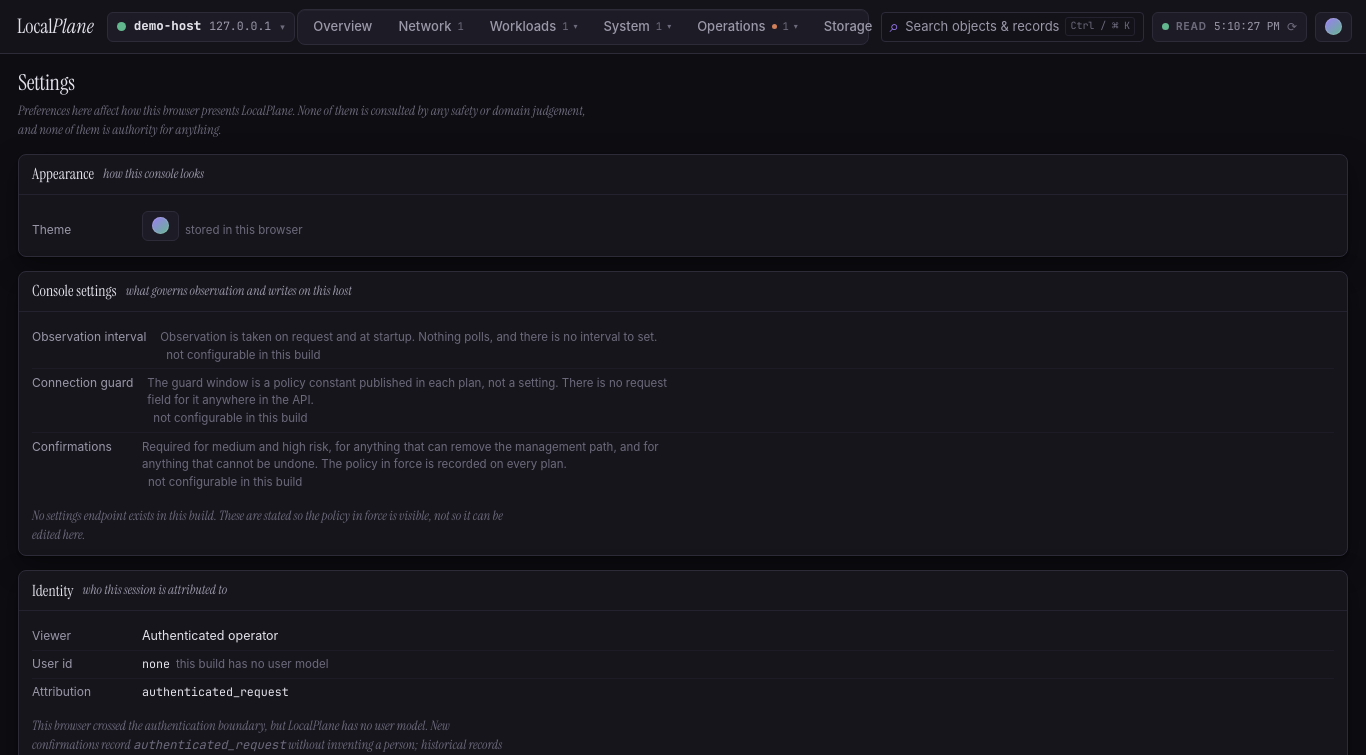
Test: the host picker › offers the real host and marks fleet as absent from this build
Click the button "demo-host 127.0.0.1 ▾". click: (201, 26)
box: [107,12,295,42]
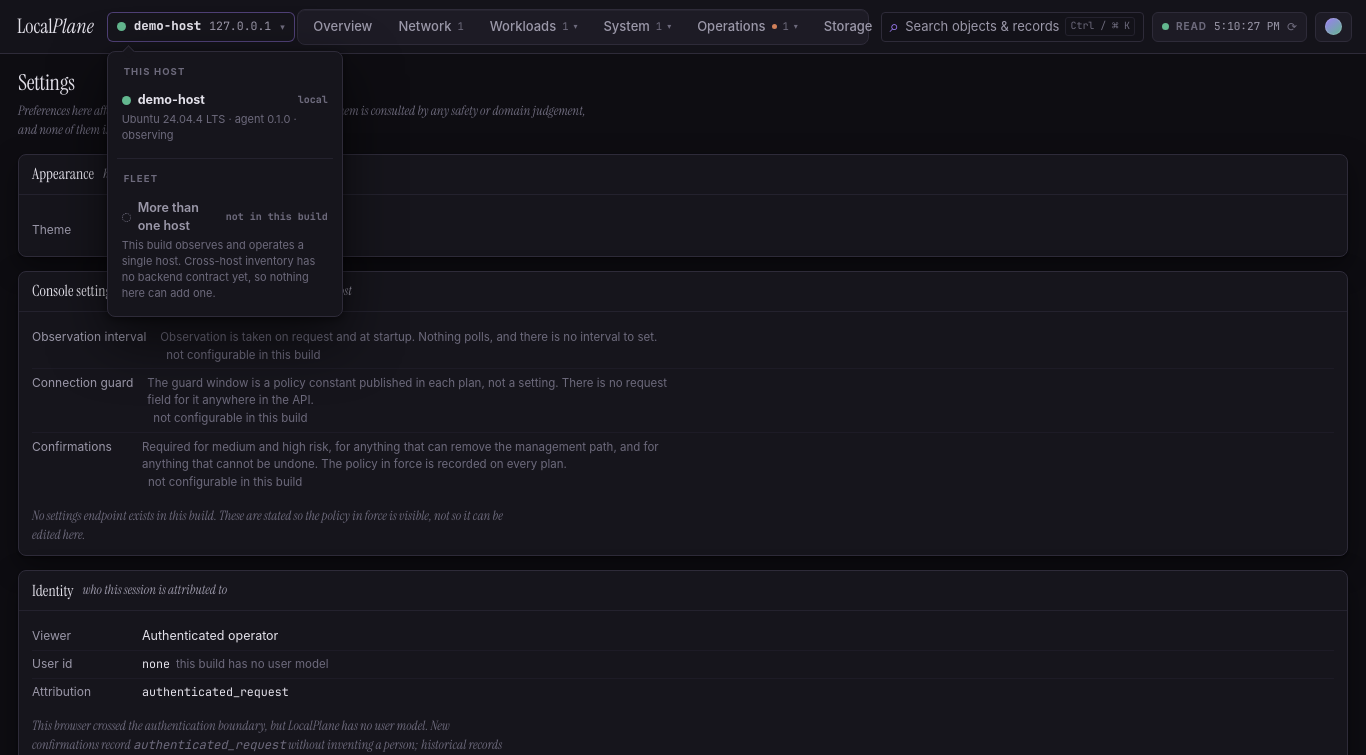
Now the text "local" is shown, box [298,93,328,108]
Now the text "not in this build" is shown, box [226,210,328,224]
